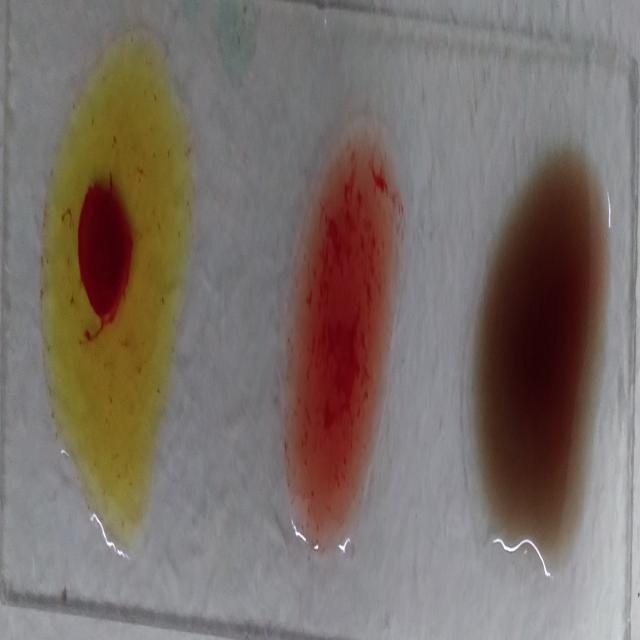B: (39, 22, 192, 568)
D: (284, 105, 404, 575)
